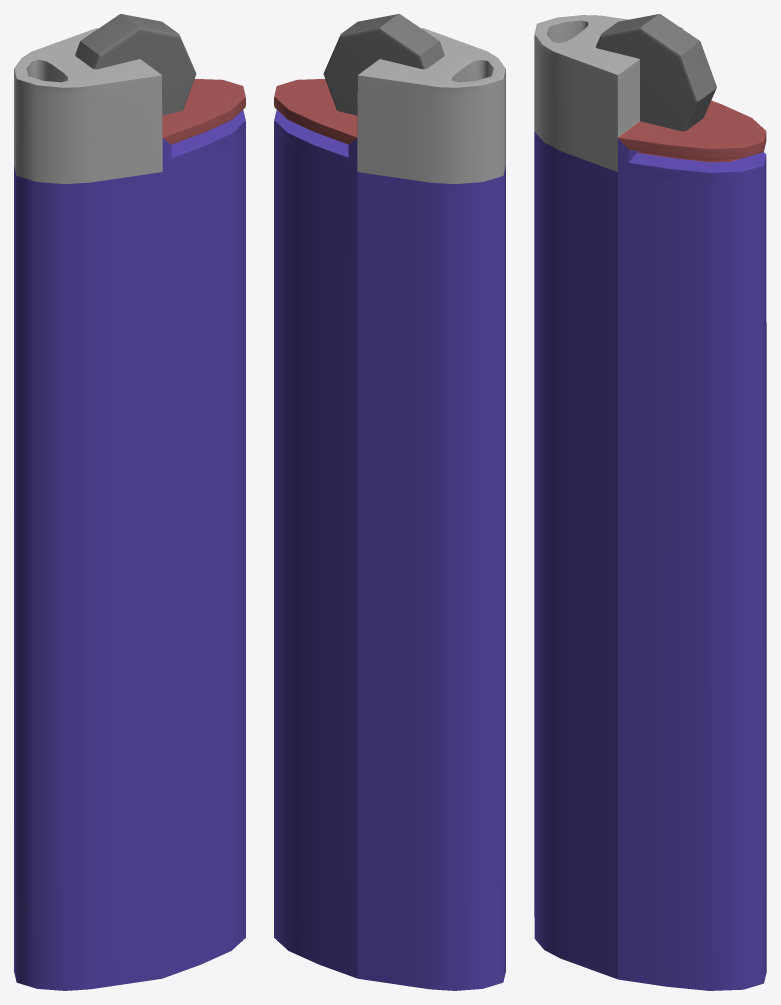
Rendered from lighter_shaded_v001.fbx.
3 views of the same model, side by side, from view 1: azimuth 30°, elevation 25°; view 2: azimuth 150°, elevation 25°; view 3: azimuth 330°, elevation 25° (orthographic).
Visible parts, largest first — view 1: lighter_geo; view 2: lighter_geo; view 3: lighter_geo.
Boxes of the visible parts, <box> form: lighter_geo: <box>14,14,245,990</box>; lighter_geo: <box>274,14,505,990</box>; lighter_geo: <box>534,14,766,990</box>.
Size of the model in its own units: 2.17 by 8.54 by 1.07.
